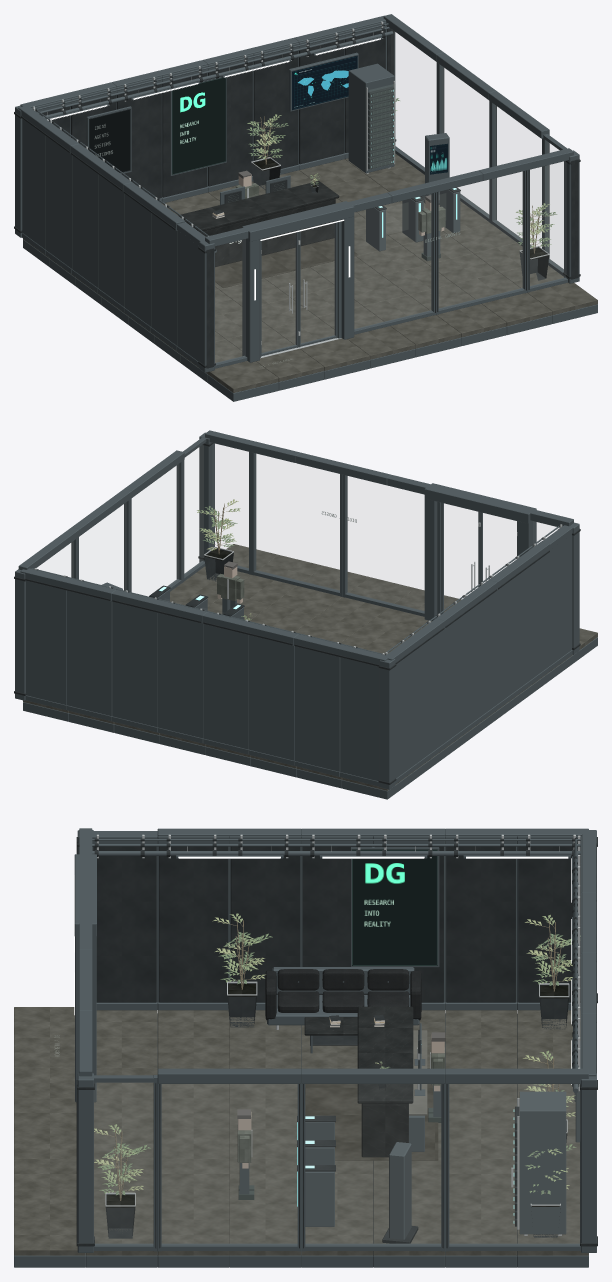
The model's file is LobbyRoom.glb.
3 views of the same model, one above another, from view 1: azimuth 30°, elevation 25°; view 2: azimuth 150°, elevation 25°; view 3: azimuth 270°, elevation 25° (orthographic). The views are drawn at different scales.
Parts seen in each view (by area): view 1: EntrancePortal-178_BlackenedSteel__mesh, ReceptionDesk-194_BlackMarble__mesh, DGLogoPanel-200_DGIdentity__mesh, WallPanel-138_Powdercoat__mesh, WallPanel-154_BlackenedSteel__mesh, WallPanel-146_BlackenedSteel__mesh, WallPanel-152_BlackenedSteel__mesh, WallPanel-150_BlackenedSteel__mesh, WallPanel-148_BlackenedSteel__mesh, WallPanel-132_Powdercoat__mesh, WallPanel-136_Powdercoat__mesh, WallPanel-156_BlackenedSteel__mesh (+80 smaller); view 2: WallPanel-136_BlackenedSteel__mesh, WallPanel-130_BlackenedSteel__mesh, WallPanel-140_BlackenedSteel__mesh, WallPanel-132_BlackenedSteel__mesh, WallPanel-138_BlackenedSteel__mesh, WallPanel-134_BlackenedSteel__mesh, WallPanel-142_BlackenedSteel__mesh, WallPanel-128_BlackenedSteel__mesh, EntrancePortal-178_BlackenedSteel__mesh, WallPanel-156_BlackenedSteel__mesh, WallPanel-150_BlackenedSteel__mesh, WallPanel-146_BlackenedSteel__mesh (+44 smaller); view 3: WallPanel-146_Powdercoat__mesh, WallPanel-154_Powdercoat__mesh, DGLogoPanel-201_DGIdentity__mesh, WallPanel-156_Powdercoat__mesh, WallPanel-152_Powdercoat__mesh, WallPanel-144_Powdercoat__mesh, ReceptionDesk-194_BlackMarble__mesh, ServerRack-218_BlackenedSteel__mesh, Sofa-202_BlackLeather__mesh, WallPanel-150_Powdercoat__mesh, Rug-205_GraphiteWoven__mesh, EntrancePortal-178_BlackenedSteel__mesh (+102 smaller).
Boxes of the visible parts, box(x1,y1,x2,y2) form: EntrancePortal-178_BlackenedSteel__mesh: box(242, 201, 354, 362); ReceptionDesk-194_BlackMarble__mesh: box(178, 181, 339, 266); DGLogoPanel-200_DGIdentity__mesh: box(172, 77, 226, 174); WallPanel-138_Powdercoat__mesh: box(253, 51, 298, 168); WallPanel-154_BlackenedSteel__mesh: box(150, 213, 185, 350); WallPanel-146_BlackenedSteel__mesh: box(45, 136, 72, 273); WallPanel-152_BlackenedSteel__mesh: box(124, 194, 151, 331); WallPanel-150_BlackenedSteel__mesh: box(98, 175, 124, 311); WallPanel-148_BlackenedSteel__mesh: box(72, 155, 98, 292); WallPanel-132_Powdercoat__mesh: box(116, 84, 161, 198); WallPanel-136_Powdercoat__mesh: box(208, 62, 252, 186); WallPanel-156_BlackenedSteel__mesh: box(177, 222, 206, 366); WallPanel-136_BlackenedSteel__mesh: box(157, 613, 203, 743); WallPanel-130_BlackenedSteel__mesh: box(294, 646, 340, 776); WallPanel-140_BlackenedSteel__mesh: box(66, 590, 112, 721); WallPanel-132_BlackenedSteel__mesh: box(248, 635, 294, 765); WallPanel-138_BlackenedSteel__mesh: box(112, 601, 157, 732); WallPanel-134_BlackenedSteel__mesh: box(203, 624, 248, 754); WallPanel-142_BlackenedSteel__mesh: box(25, 580, 66, 709); WallPanel-128_BlackenedSteel__mesh: box(340, 657, 379, 786); EntrancePortal-178_BlackenedSteel__mesh: box(424, 483, 536, 621); WallPanel-156_BlackenedSteel__mesh: box(542, 525, 574, 671); WallPanel-150_BlackenedSteel__mesh: box(469, 591, 496, 729); WallPanel-146_BlackenedSteel__mesh: box(417, 630, 443, 767); WallPanel-146_Powdercoat__mesh: box(446, 846, 515, 1002); WallPanel-154_Powdercoat__mesh: box(159, 846, 228, 1002); DGLogoPanel-201_DGIdentity__mesh: box(352, 849, 437, 965); WallPanel-156_Powdercoat__mesh: box(93, 846, 156, 1002); WallPanel-152_Powdercoat__mesh: box(230, 846, 300, 1002); WallPanel-144_Powdercoat__mesh: box(518, 846, 580, 1002); ReceptionDesk-194_BlackMarble__mesh: box(357, 1006, 413, 1157); ServerRack-218_BlackenedSteel__mesh: box(519, 1091, 566, 1234); Sofa-202_BlackLeather__mesh: box(265, 969, 421, 1020); WallPanel-150_Powdercoat__mesh: box(302, 846, 371, 994); Rug-205_GraphiteWoven__mesh: box(305, 1084, 438, 1160); EntrancePortal-178_BlackenedSteel__mesh: box(74, 854, 96, 1102).
Size of the model in its own units: 9.9 by 3.63 by 9.75.
Materials: 33 (16 with a texture image).
